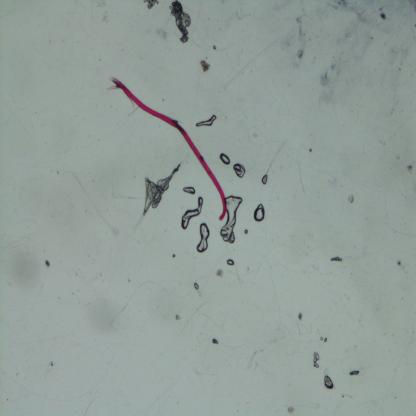Air bubble: (139, 162, 180, 220), (221, 195, 244, 247), (180, 196, 204, 228), (198, 222, 210, 256), (195, 113, 218, 128), (252, 201, 267, 223), (232, 164, 245, 180), (219, 152, 232, 168), (182, 184, 196, 196), (323, 377, 335, 390), (193, 281, 200, 292), (262, 174, 268, 186), (226, 258, 235, 266)
Background material: (335, 0, 393, 37), (312, 56, 347, 107), (170, 1, 194, 45), (390, 39, 410, 81), (292, 40, 308, 66), (394, 256, 412, 275), (98, 1, 109, 23), (199, 56, 212, 74), (312, 347, 322, 370), (156, 25, 168, 40), (144, 0, 159, 10), (348, 366, 360, 378), (215, 266, 225, 280), (330, 253, 342, 264), (318, 333, 329, 344), (170, 312, 182, 322), (346, 191, 353, 205), (407, 167, 416, 175), (44, 256, 50, 268), (298, 309, 304, 321), (288, 405, 295, 415), (210, 44, 218, 52), (170, 251, 177, 260), (212, 337, 219, 344), (242, 229, 248, 235)
Glass filter fibre: (68, 172, 118, 235), (223, 39, 277, 89), (246, 347, 264, 371), (84, 390, 101, 414), (110, 191, 144, 200), (298, 162, 306, 197)
Microfibre: (108, 76, 227, 221)
